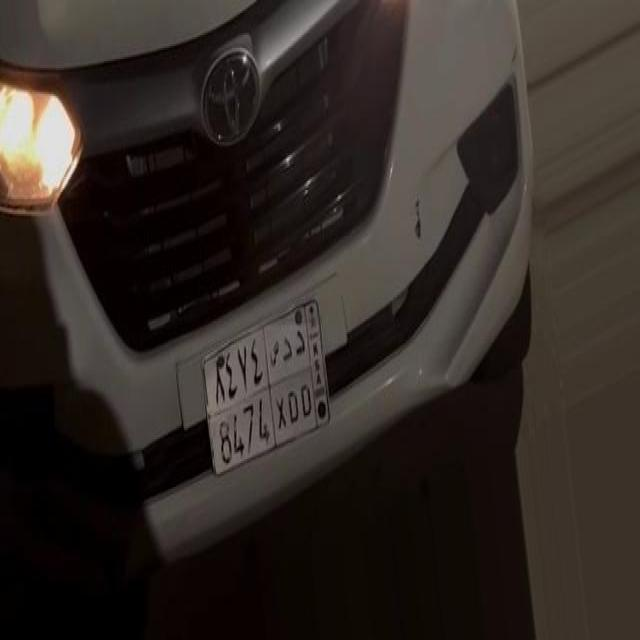Car-plate: (171, 272, 367, 512)
